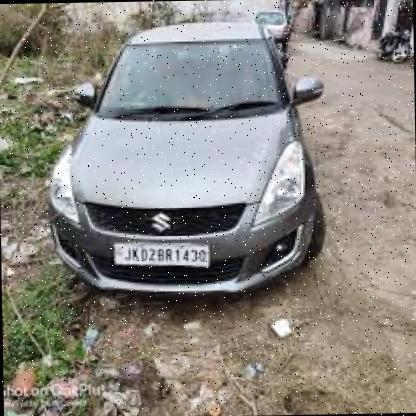car: (32, 14, 337, 306)
